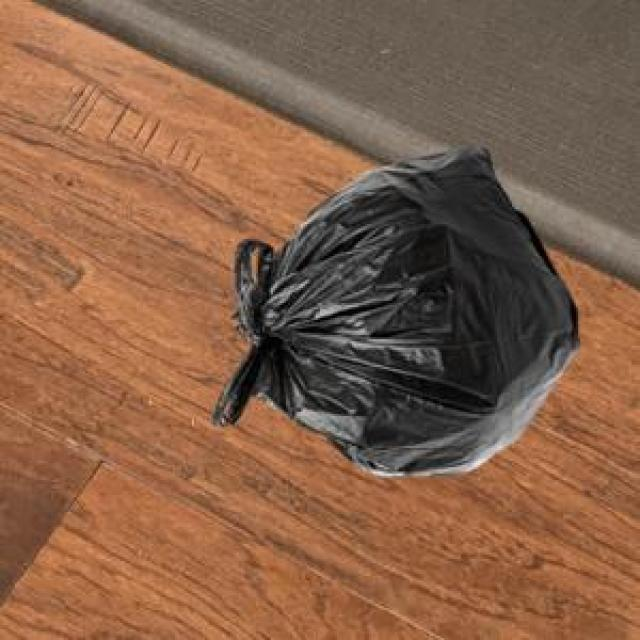miscellaneous trash: (209, 143, 576, 474)
